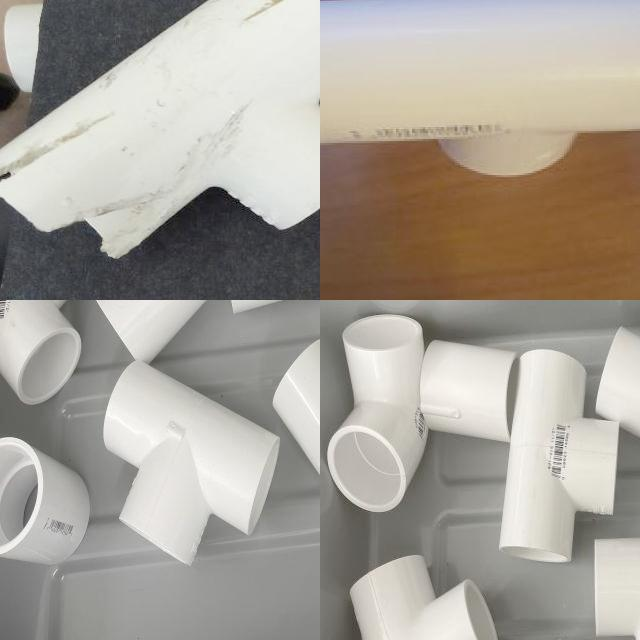Defective: (145, 105, 262, 194), (79, 190, 180, 259), (0, 126, 93, 182), (203, 0, 294, 26)
L Joint: (348, 555, 501, 640), (593, 539, 640, 640)
T Joint: (102, 361, 281, 567), (499, 349, 620, 565), (327, 314, 429, 513)
